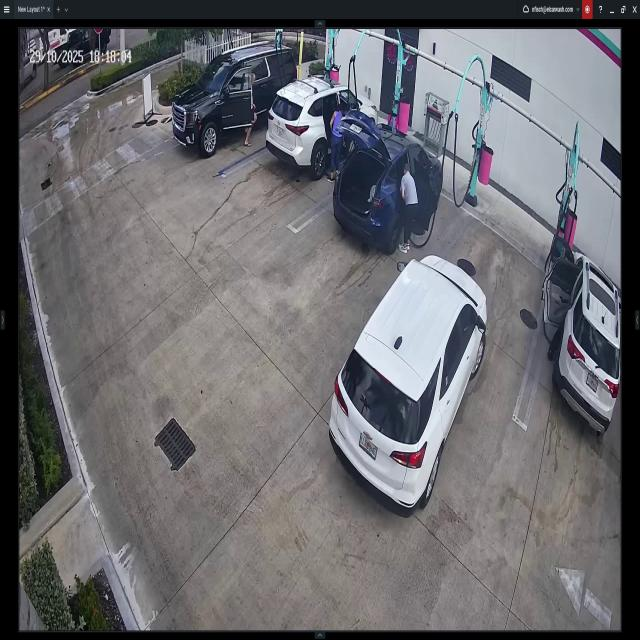Car: (329, 254, 486, 513), (332, 112, 444, 253), (548, 232, 622, 436), (171, 47, 297, 156), (267, 74, 380, 180)
